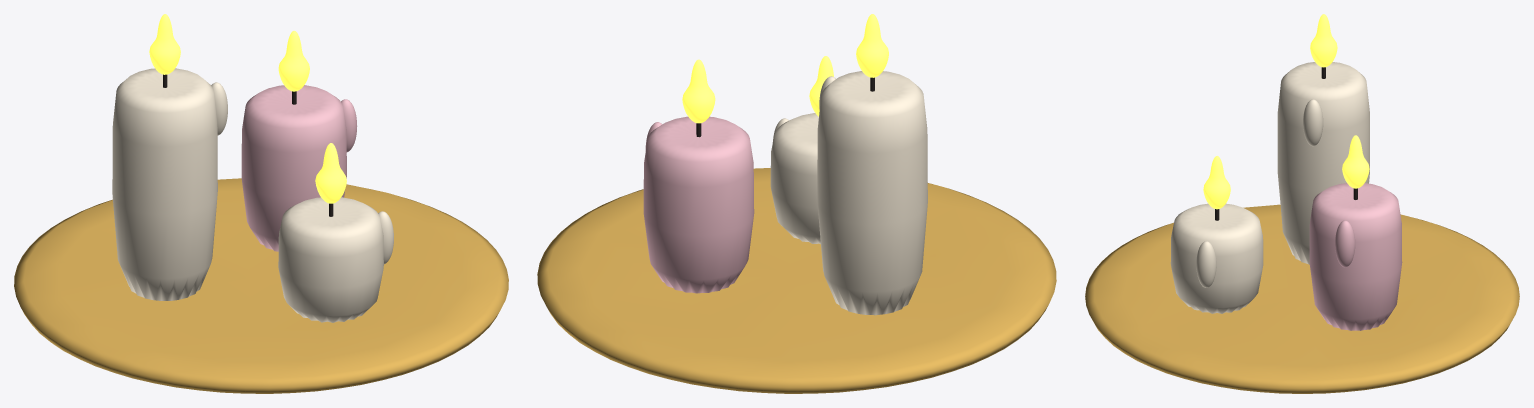
File: deco_velas.glb
3 views of the same model, side by side, from view 1: azimuth 30°, elevation 25°; view 2: azimuth 150°, elevation 25°; view 3: azimuth 270°, elevation 25° (orthographic). The views are drawn at different scales.
Parts seen in each view (by area): view 1: bandeja velas, vela 0, vela 1, vela 2, llama 0, llama 1, llama 2, gota vela 0, gota vela 1, gota vela 2; view 2: bandeja velas, vela 0, vela 1, vela 2, llama 1, llama 0, llama 2; view 3: bandeja velas, vela 0, vela 1, vela 2, llama 0, llama 2, llama 1, gota vela 1, gota vela 0, gota vela 2.
Part boxes in pixels (x1=…): bandeja velas: x1=14, y1=178, x2=508, y2=393; vela 0: x1=112, y1=68, x2=217, y2=300; vela 1: x1=241, y1=85, x2=346, y2=251; vela 2: x1=278, y1=197, x2=383, y2=322; llama 0: x1=149, y1=14, x2=180, y2=74; llama 1: x1=278, y1=31, x2=309, y2=91; llama 2: x1=315, y1=143, x2=346, y2=203; gota vela 0: x1=211, y1=82, x2=227, y2=135; gota vela 1: x1=341, y1=99, x2=357, y2=152; gota vela 2: x1=378, y1=211, x2=393, y2=264; bandeja velas: x1=537, y1=168, x2=1056, y2=393; vela 0: x1=817, y1=71, x2=927, y2=315; vela 1: x1=643, y1=116, x2=754, y2=293; vela 2: x1=770, y1=113, x2=820, y2=244; llama 1: x1=682, y1=59, x2=715, y2=123; llama 0: x1=856, y1=14, x2=888, y2=77; llama 2: x1=809, y1=56, x2=833, y2=116; bandeja velas: x1=1085, y1=204, x2=1519, y2=393; vela 0: x1=1277, y1=62, x2=1369, y2=264; vela 1: x1=1309, y1=183, x2=1402, y2=330; vela 2: x1=1170, y1=203, x2=1263, y2=313; llama 0: x1=1310, y1=14, x2=1337, y2=67; llama 2: x1=1203, y1=156, x2=1230, y2=209; llama 1: x1=1342, y1=135, x2=1369, y2=188; gota vela 1: x1=1335, y1=220, x2=1355, y2=267; gota vela 0: x1=1303, y1=99, x2=1323, y2=146; gota vela 2: x1=1196, y1=241, x2=1216, y2=287.
Bounding box in the file's own units: 0.4074 × 0.2723 × 0.4074.
